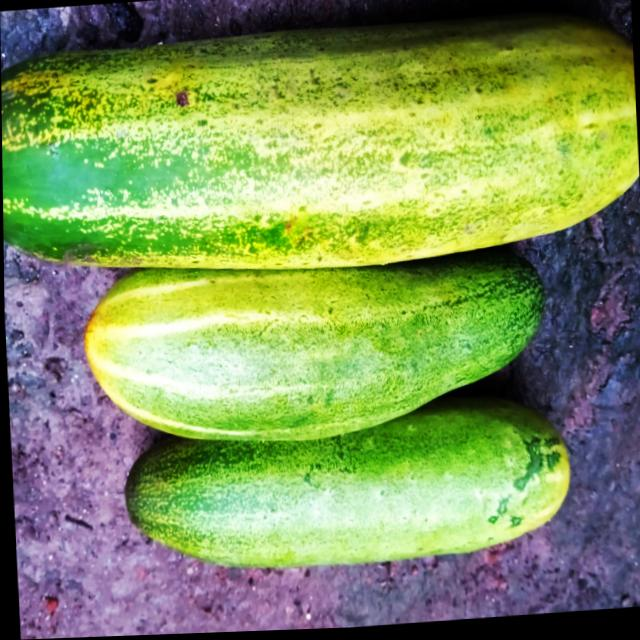Fresh-Cucumber: (0, 8, 640, 294), (76, 243, 552, 457), (120, 400, 575, 583)
